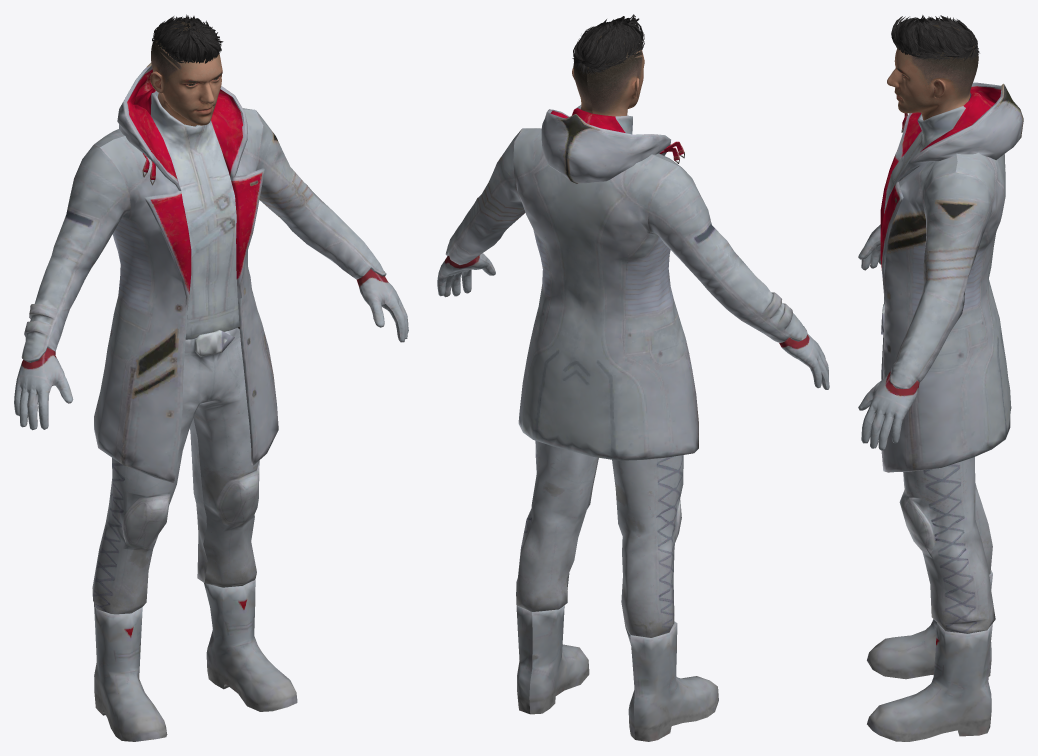
The picture shows the model from 3 angles, left to right: view 1: azimuth 30°, elevation 25°; view 2: azimuth 150°, elevation 25°; view 3: azimuth 270°, elevation 25°; orthographic projection.
Visible parts, largest first — view 1: Mesh_0015.rip, Mesh_0014.rip, 4911 sachin yt, Mesh_0015.rip.001, Mesh_0017.rip; view 2: Mesh_0015.rip, Mesh_0014.rip, 4911 sachin yt, Mesh_0015.rip.001, Mesh_0017.rip; view 3: Mesh_0015.rip, Mesh_0014.rip, 4911 sachin yt, Mesh_0015.rip.001, Mesh_0017.rip.
Boxes of the visible parts, x1,y1,x2,y2 form: Mesh_0015.rip: (14,62,408,482); Mesh_0014.rip: (92,328,259,614); 4911 sachin yt: (94,579,297,741); Mesh_0015.rip.001: (150,21,222,126); Mesh_0017.rip: (152,14,223,63); Mesh_0015.rip: (437,105,829,460); Mesh_0014.rip: (516,440,683,637); 4911 sachin yt: (516,605,718,741); Mesh_0015.rip.001: (572,35,644,116); Mesh_0017.rip: (572,14,644,74); Mesh_0015.rip: (858,82,1023,472); Mesh_0014.rip: (881,304,995,633); 4911 sachin yt: (867,570,992,741); Mesh_0015.rip.001: (887,23,978,120); Mesh_0017.rip: (891,15,979,61).
Bounding box in the file's own units: 1.07 × 1.83 × 0.3995.
Materials: 5 (5 with a texture image).
